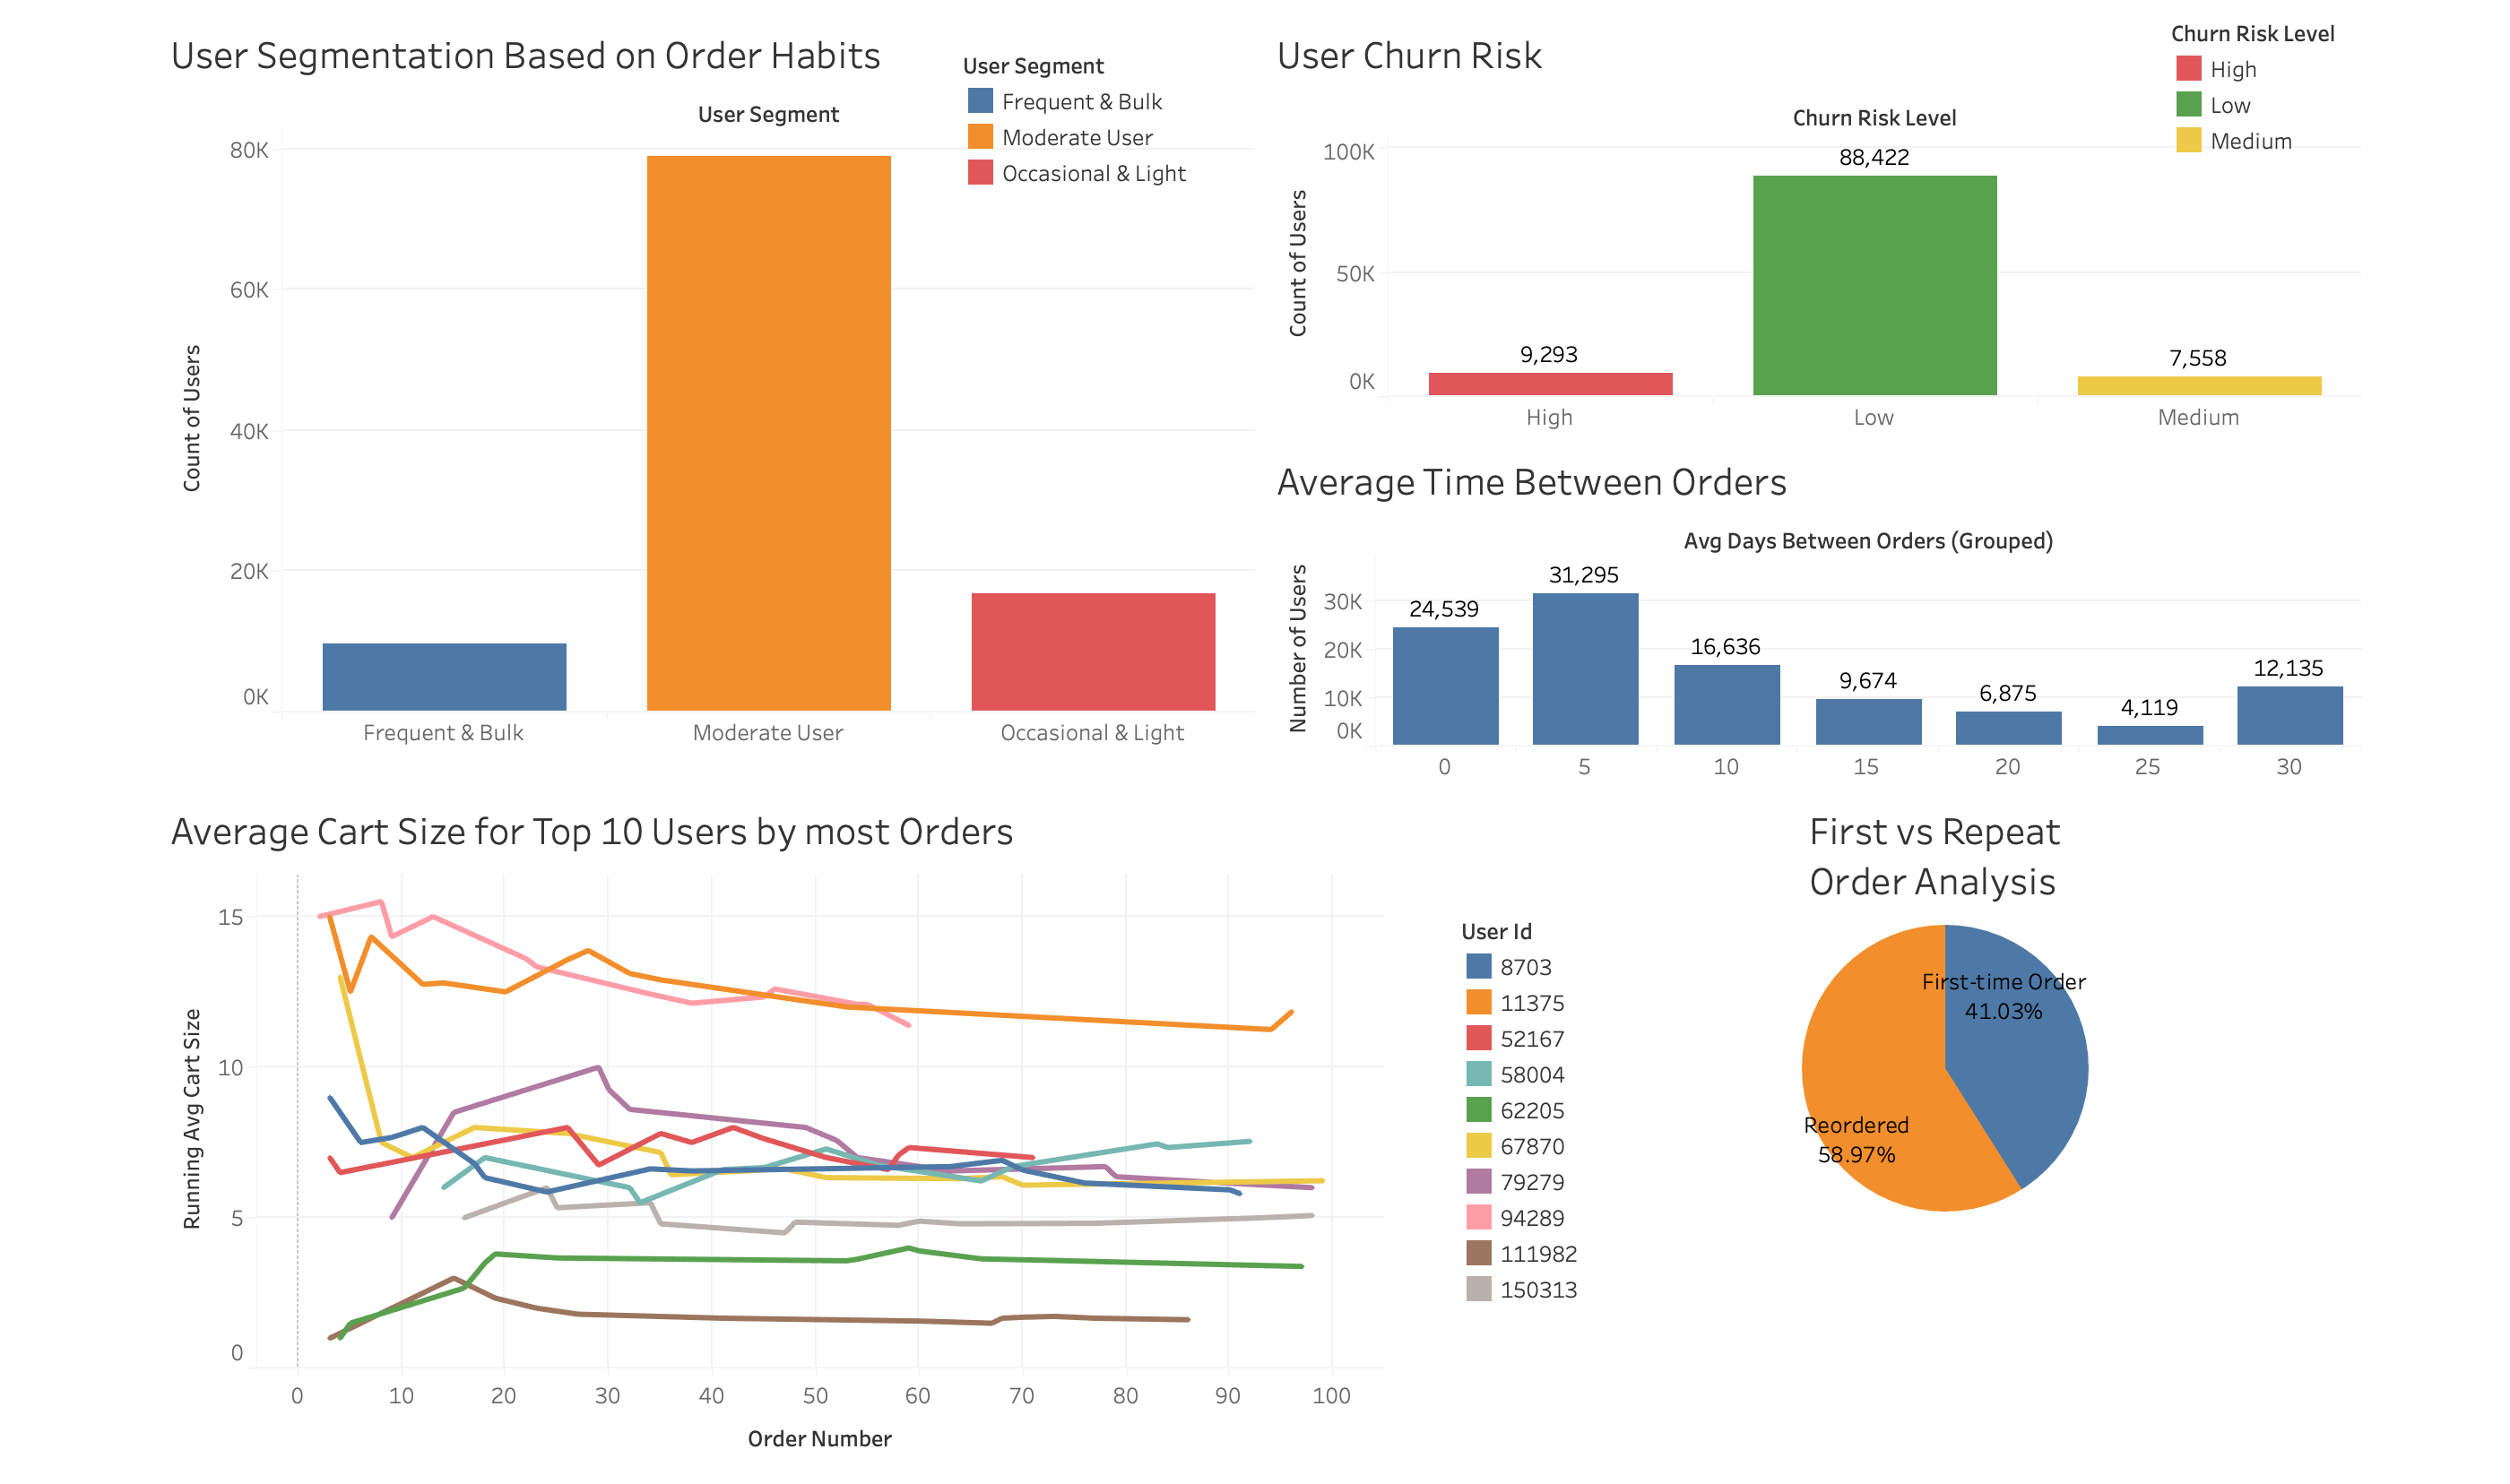

The page's visual inventory and layout, read from the dashboard file:
{"tool":"tableau","page":{"name":"User Behavior","canvas":[1000,1000],"units":"permille","ordinal":1},"visuals":[{"type":"worksheet","title":"User Segmentation Based on Order Habits","mark":"Automatic","rows":["user_id"],"cols":["user_segment"],"box":[6.7,11.2,493.3,519.6]},{"type":"worksheet","title":"User Churn Risk","mark":"Bar","rows":["user_id"],"cols":["churn_risk_level"],"box":[500,11.2,493.3,246.5]},{"type":"legend","title":"User Churn Risk","param":"[federated.1mc7ynj1e76s6g1d6w5rj1084hxj].[none:churn_risk_level:nk]","box":[905.8,12.6,90.8,113.5]},{"type":"legend","title":"User Segmentation Based on Order Habits","param":"[federated.0r2qr201dtndga18u4d7b1wp3vkh].[none:user_segment:nk]","box":[366.7,33.6,125,119]},{"type":"worksheet","title":"Average Time Between Orders","mark":"Bar","rows":["Calculation_1035194601899835392"],"cols":["Avg Days Between Orders (bin)"],"box":[500,257.7,493.3,273.1]},{"type":"worksheet","title":"Average Cart Size for Top 10 Users by most Orders","mark":"Line","rows":["running_avg_cart_size"],"cols":["order_number"],"box":[6.7,530.8,543.3,458]},{"type":"blank","box":[550,530.8,187.5,458]},{"type":"worksheet","title":"First vs Repeat Order Analysis","mark":"Pie","box":[737.5,530.8,167.5,458]},{"type":"blank","box":[905,530.8,88.3,458]},{"type":"legend","title":"Average Cart Size for Top 10 Users by most Orders","param":"[federated.1dtyw9t0z5ujly1gknmq60nf1ire].[none:user_id:ok]","box":[589.2,616.2,116.7,305.3]}]}

Visuals, with their boxes on the dashboard's canvas, which has no fixed pixel size, in thousandths of its width and height (x1, y1, x2, y2). These are canvas units, not pixel positions in the 2510x1484 screenshot, which may show the page scaled, cropped or inside an application window:
"User Segmentation Based on Order Habits" worksheet: (x1=7, y1=11, x2=500, y2=531)
"User Churn Risk" worksheet (Bar marks): (x1=500, y1=11, x2=993, y2=258)
"User Churn Risk" legend: (x1=906, y1=13, x2=997, y2=126)
"User Segmentation Based on Order Habits" legend: (x1=367, y1=34, x2=492, y2=153)
"Average Time Between Orders" worksheet (Bar marks): (x1=500, y1=258, x2=993, y2=531)
"Average Cart Size for Top 10 Users by most Orders" worksheet (Line marks): (x1=7, y1=531, x2=550, y2=989)
blank: (x1=550, y1=531, x2=738, y2=989)
"First vs Repeat Order Analysis" worksheet (Pie marks): (x1=738, y1=531, x2=905, y2=989)
blank: (x1=905, y1=531, x2=993, y2=989)
"Average Cart Size for Top 10 Users by most Orders" legend: (x1=589, y1=616, x2=706, y2=922)
